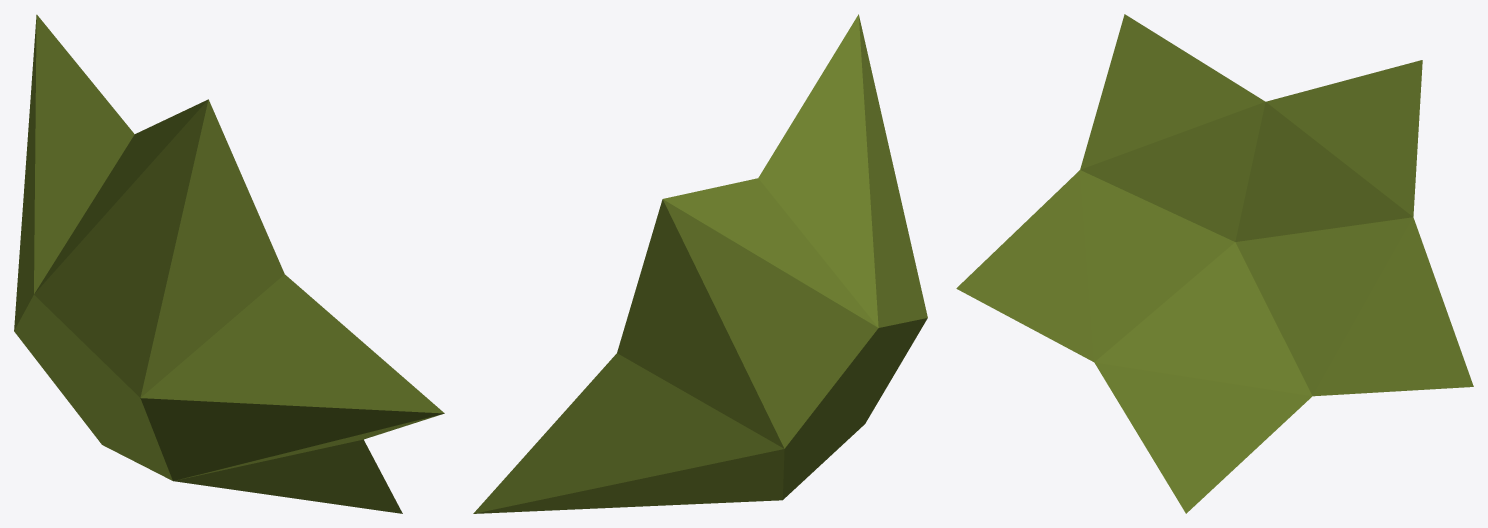
The model's file is star vine.glb.
The picture shows the model from 3 angles, left to right: view 1: azimuth 30°, elevation 25°; view 2: azimuth 150°, elevation 25°; view 3: azimuth 270°, elevation 25°; orthographic projection. The views are drawn at different scales.
Parts seen in each view (by area): view 1: Box15957; view 2: Box15957; view 3: Box15957.
Part boxes in pixels (bbox=[...]): Box15957: bbox=[14, 14, 444, 513]; Box15957: bbox=[473, 14, 927, 513]; Box15957: bbox=[956, 14, 1473, 513].
Size of the model in its own units: 0.786 by 1.14 by 1.31.
